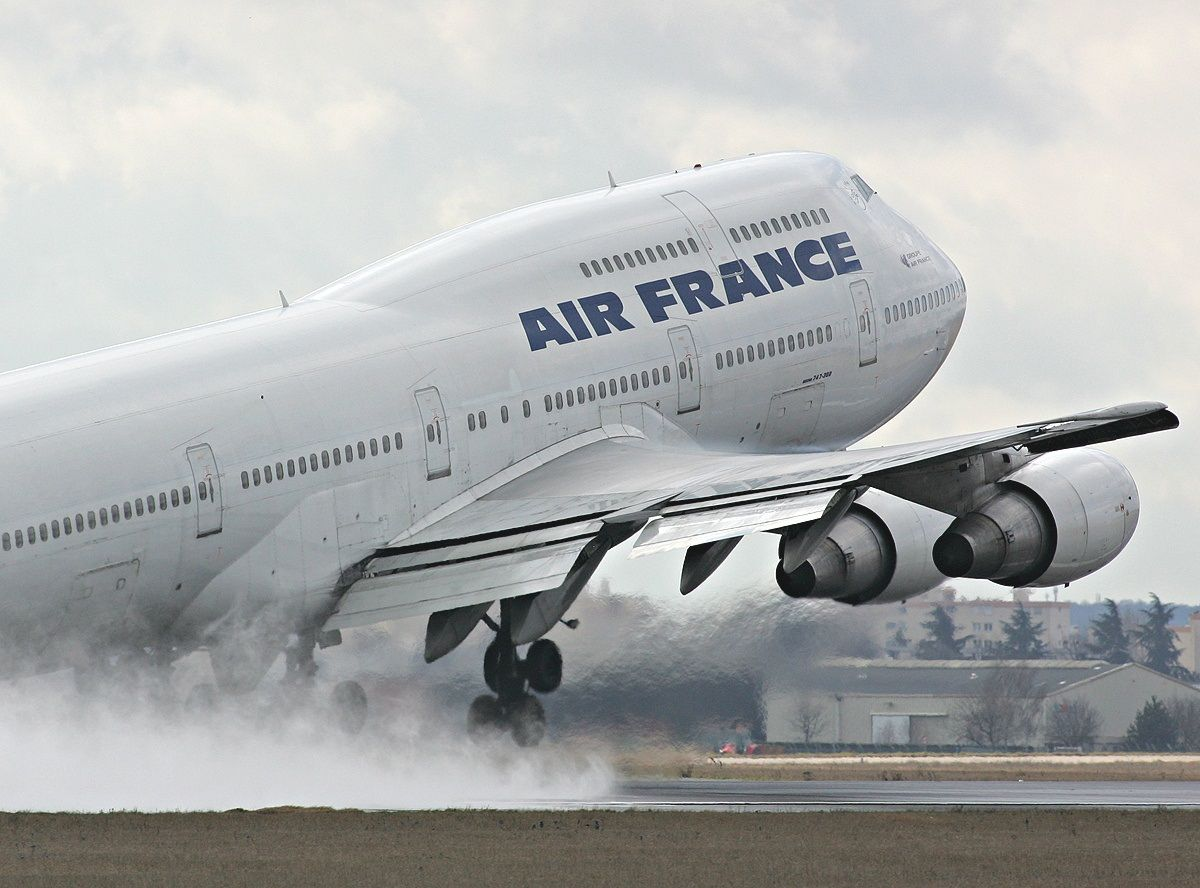Aeronef_commercial: (1, 137, 1186, 779)
